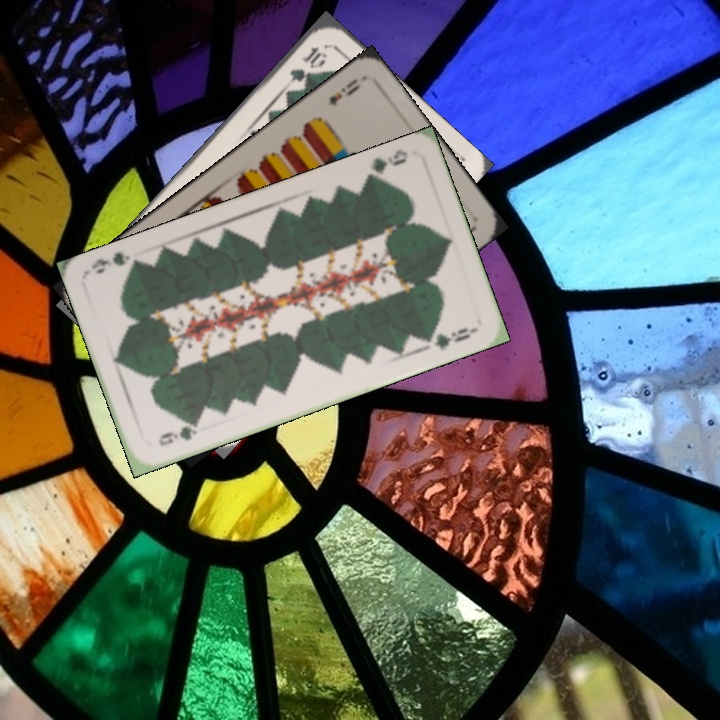E9: (323, 74, 363, 110)
G10: (282, 42, 329, 90)
G9: (361, 145, 411, 186), (154, 416, 202, 449)
